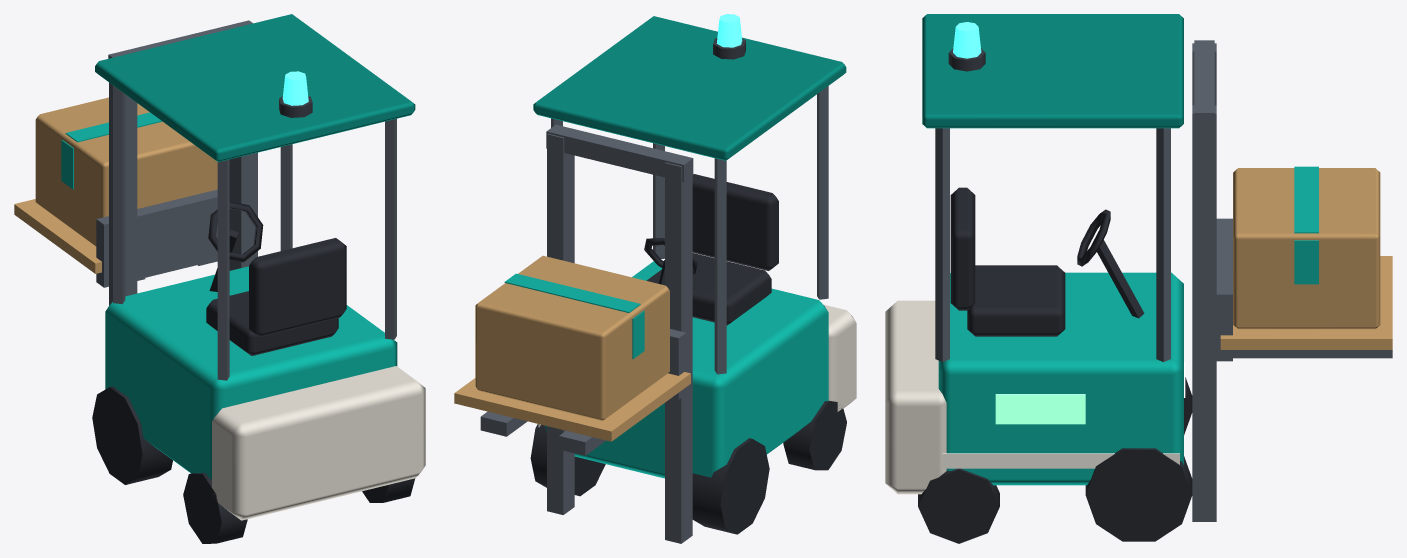
File: station_buffer_ausstattung_2_3.glb
The picture shows the model from 3 angles, left to right: view 1: azimuth 30°, elevation 25°; view 2: azimuth 150°, elevation 25°; view 3: azimuth 270°, elevation 25°; orthographic projection. The views are drawn at different scales.
Visible parts, largest first — view 1: station_buffer_ausstattung_2_3; view 2: station_buffer_ausstattung_2_3; view 3: station_buffer_ausstattung_2_3.
Part boxes in pixels (<box>): station_buffer_ausstattung_2_3: <box>14,14,425,543</box>; station_buffer_ausstattung_2_3: <box>454,14,856,543</box>; station_buffer_ausstattung_2_3: <box>885,14,1392,543</box>.
Size of the model in its own units: 0.6 by 1.26 by 1.24.
